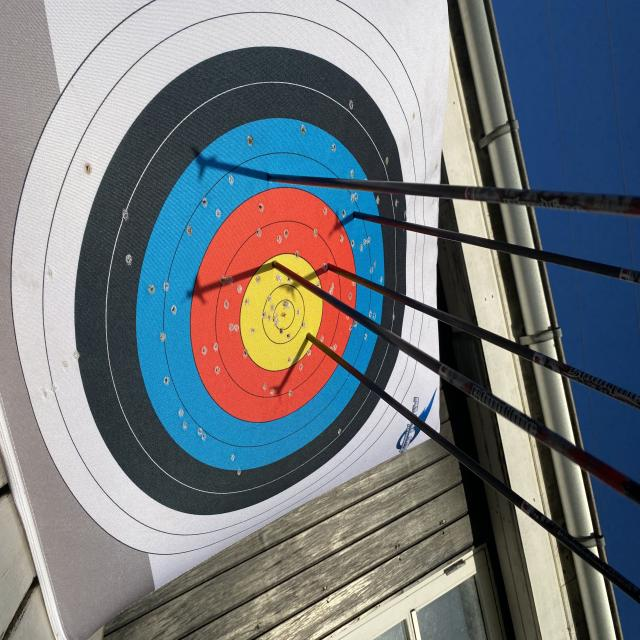Arrow_Blue: (251, 152, 294, 204), (331, 198, 382, 235)
Arrow_Red: (310, 247, 344, 284)
Arrow_Yellow: (295, 318, 326, 374), (260, 244, 289, 286)
